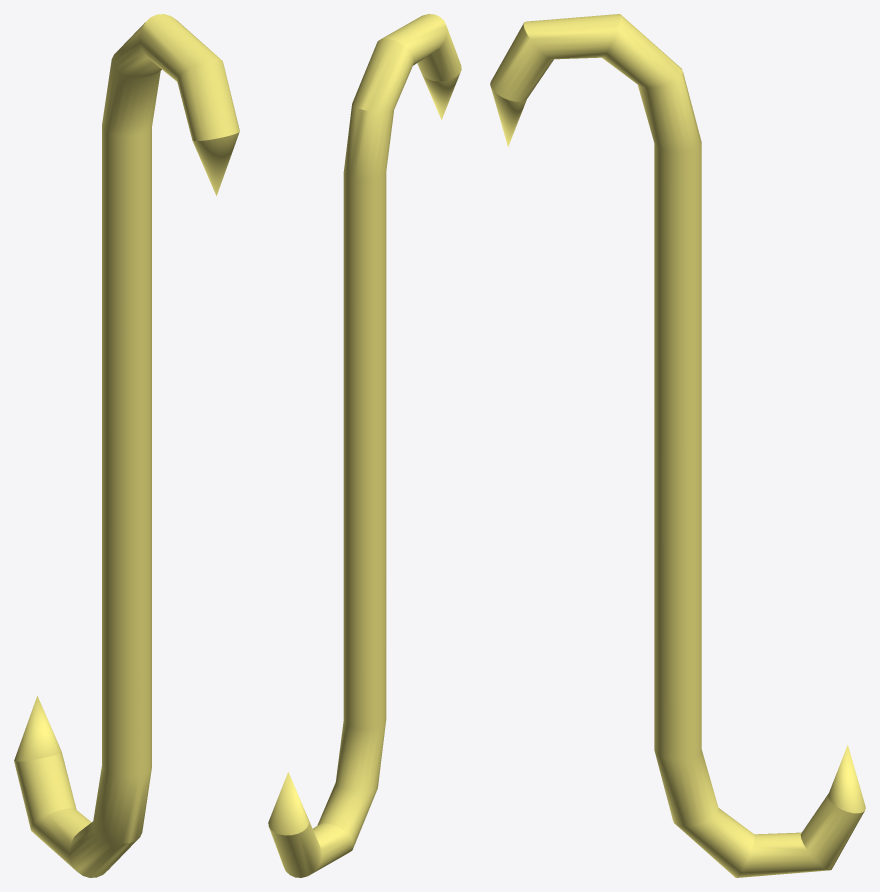
The model's file is Meathook01.fbx.
3 renders of one model, left to right at view 1: azimuth 30°, elevation 25°; view 2: azimuth 150°, elevation 25°; view 3: azimuth 270°, elevation 25°, orthographic. The views are drawn at different scales.
Visible parts, largest first — view 1: Utensils01_Uv_v001:MeatHook:pCylinder3; view 2: Utensils01_Uv_v001:MeatHook:pCylinder3; view 3: Utensils01_Uv_v001:MeatHook:pCylinder3.
Part boxes in pixels (<box>): Utensils01_Uv_v001:MeatHook:pCylinder3: <box>14,14,239,877</box>; Utensils01_Uv_v001:MeatHook:pCylinder3: <box>268,14,461,877</box>; Utensils01_Uv_v001:MeatHook:pCylinder3: <box>490,14,865,877</box>.
Size of the model in its own units: 2 by 39.83 by 15.78.
1 material, 1 textured.
